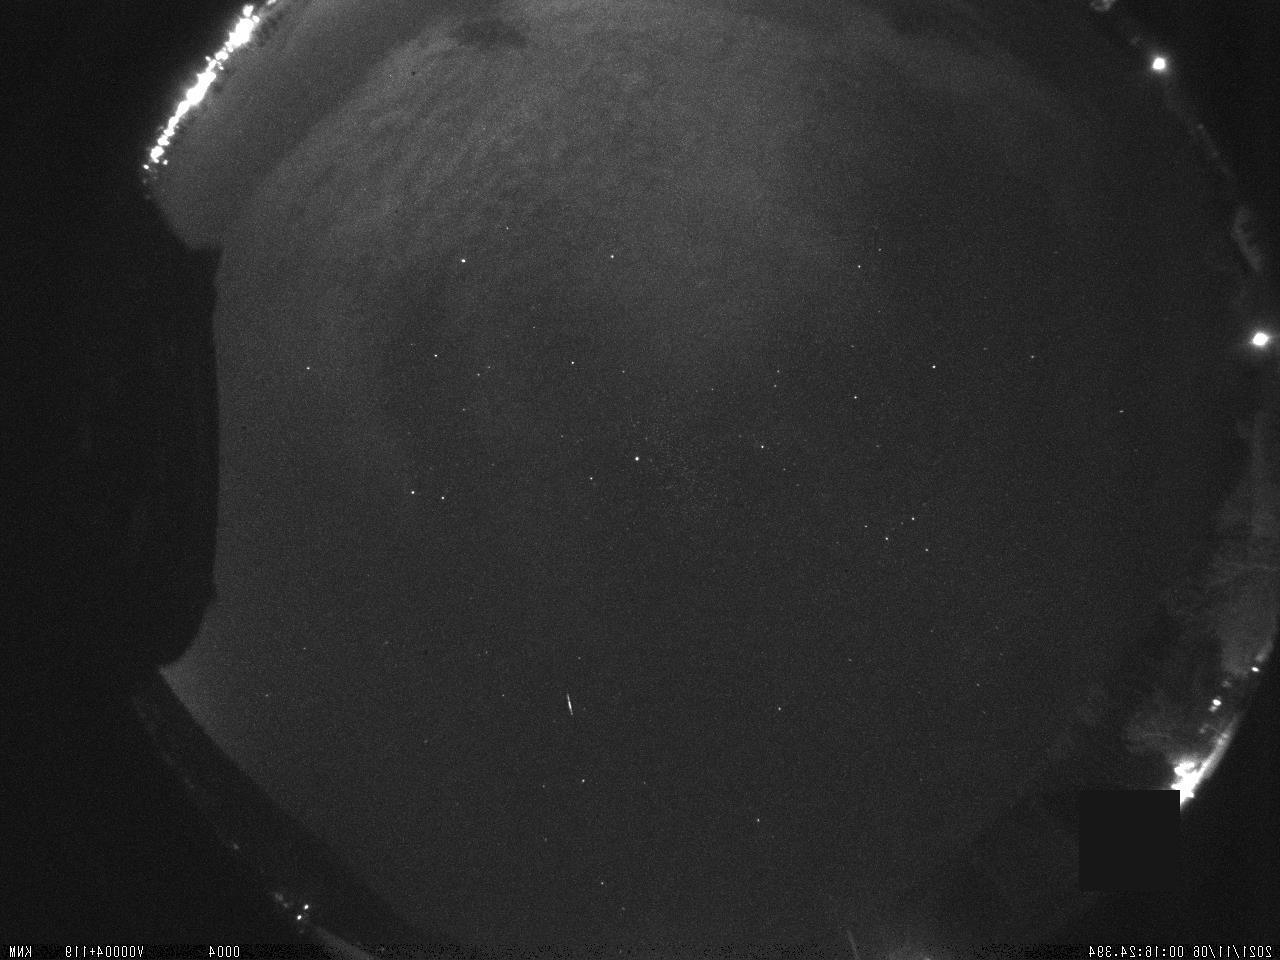meteor: (558, 690, 581, 717)
